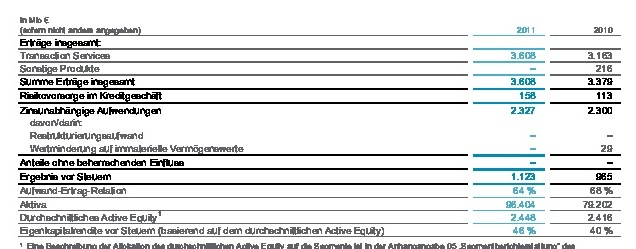table: (0, 0, 636, 249)
